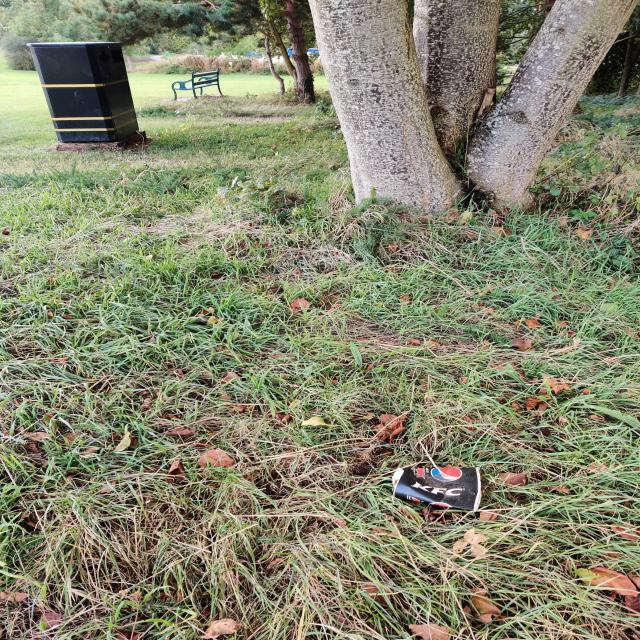litter: (390, 465, 483, 511)
